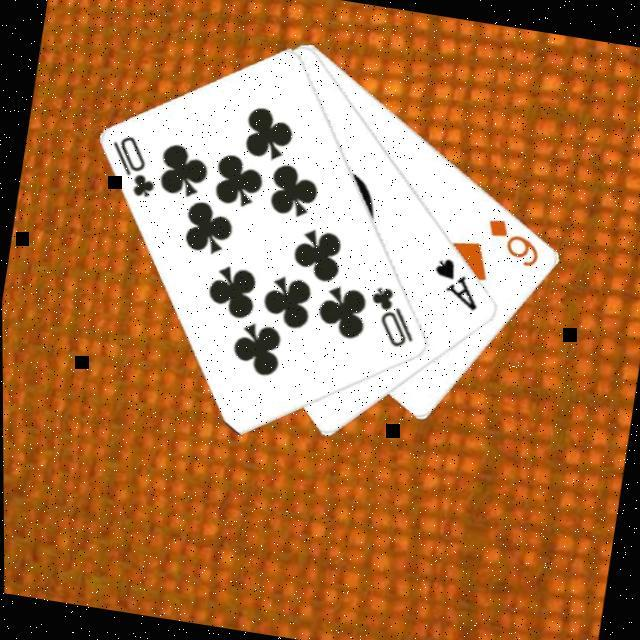10C: (100, 127, 164, 200), (360, 280, 422, 352)
6D: (478, 212, 545, 270)
AS: (424, 250, 486, 313)
